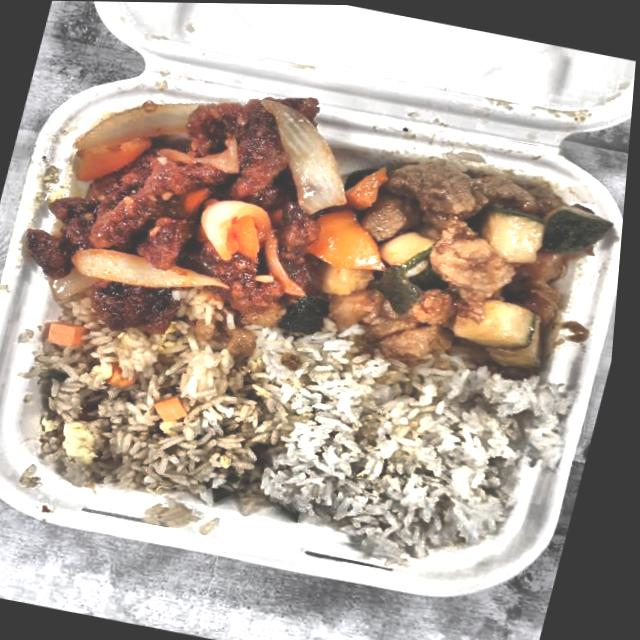Food: (5, 51, 364, 360), (292, 139, 627, 399), (259, 336, 557, 565), (25, 299, 307, 519)
